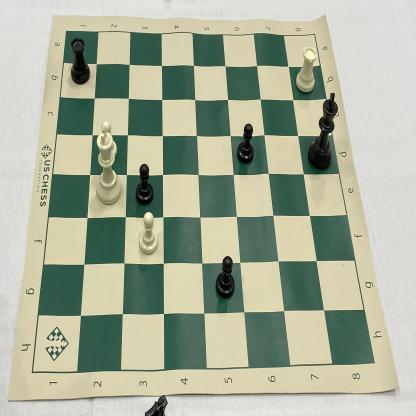black-king: (306, 90, 340, 174)
black-pawn: (213, 247, 238, 304), (234, 118, 258, 169), (134, 160, 157, 207)
black-rook: (64, 31, 93, 88)
white-king: (86, 124, 127, 209)
white-pawn: (133, 209, 161, 258), (94, 117, 119, 164)
white-rook: (293, 43, 321, 101)
